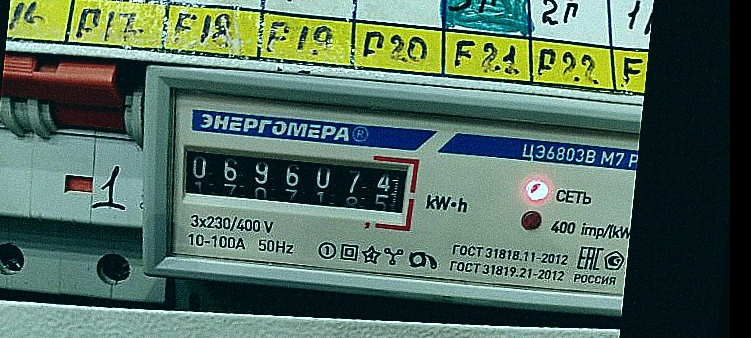0: (187, 153, 208, 179), (313, 162, 332, 190)
4: (374, 168, 393, 193)
5: (372, 191, 389, 211)
6: (220, 154, 241, 183), (281, 161, 301, 187)
7: (342, 166, 363, 194)
9: (249, 158, 271, 185)
screen: (165, 129, 424, 235)
